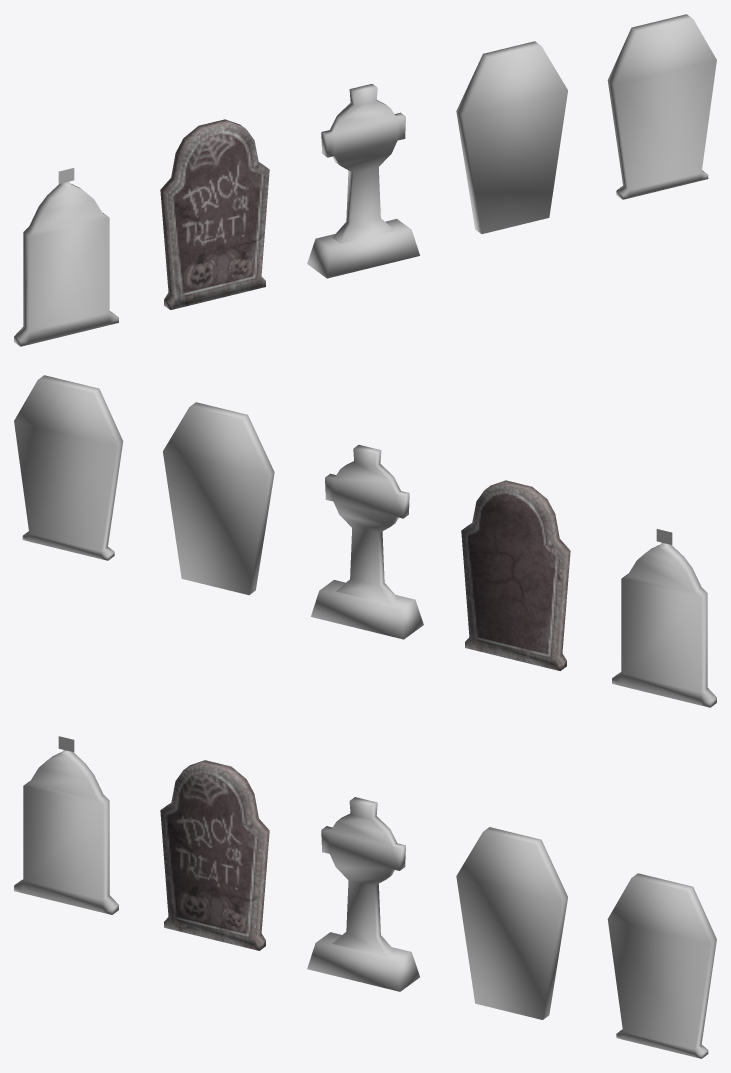
Rendered from tombstones.fbx.
3 renders of one model, top to bottom at view 1: azimuth 30°, elevation 25°; view 2: azimuth 150°, elevation 25°; view 3: azimuth 330°, elevation 25°, orthographic.
Visible parts, largest first — view 1: Tombstone02, Tombstone04, Tombstone05, Tombstone01, Tombstone03; view 2: Tombstone02, Tombstone04, Tombstone05, Tombstone01, Tombstone03; view 3: Tombstone02, Tombstone04, Tombstone05, Tombstone01, Tombstone03.
Boxes of the visible parts, left/top/right/bottom form: Tombstone02: left=160, top=119, right=269, bottom=309; Tombstone04: left=456, top=41, right=567, bottom=233; Tombstone05: left=607, top=14, right=716, bottom=199; Tombstone01: left=14, top=168, right=118, bottom=346; Tombstone03: left=307, top=84, right=419, bottom=278; Tombstone02: left=461, top=480, right=570, bottom=670; Tombstone04: left=163, top=402, right=274, bottom=594; Tombstone05: left=14, top=375, right=123, bottom=560; Tombstone01: left=612, top=529, right=716, bottom=707; Tombstone03: left=311, top=445, right=423, bottom=639; Tombstone02: left=160, top=760, right=269, bottom=950; Tombstone04: left=456, top=827, right=567, bottom=1019; Tombstone05: left=607, top=873, right=716, bottom=1058; Tombstone01: left=14, top=736, right=118, bottom=914; Tombstone03: left=307, top=797, right=419, bottom=991.
Size of the model in its own units: 234 by 55.86 by 11.67.
